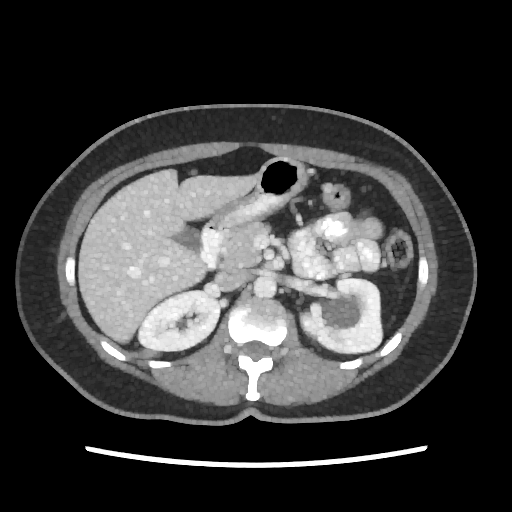Lesion: (318, 288, 363, 332)
